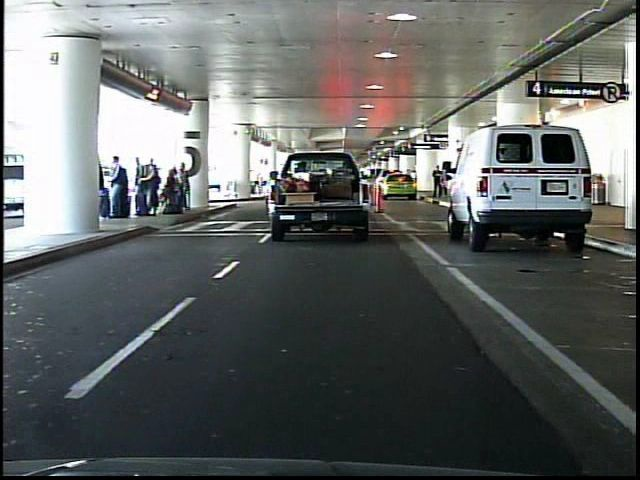person: (432, 165, 444, 201)
